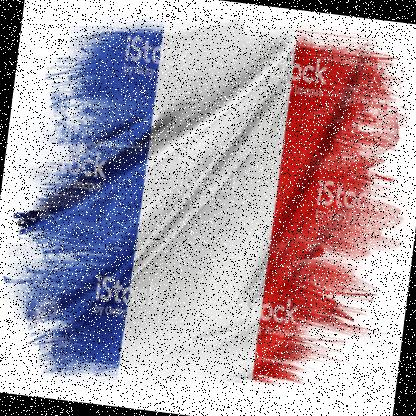fr: (28, 5, 407, 404)
